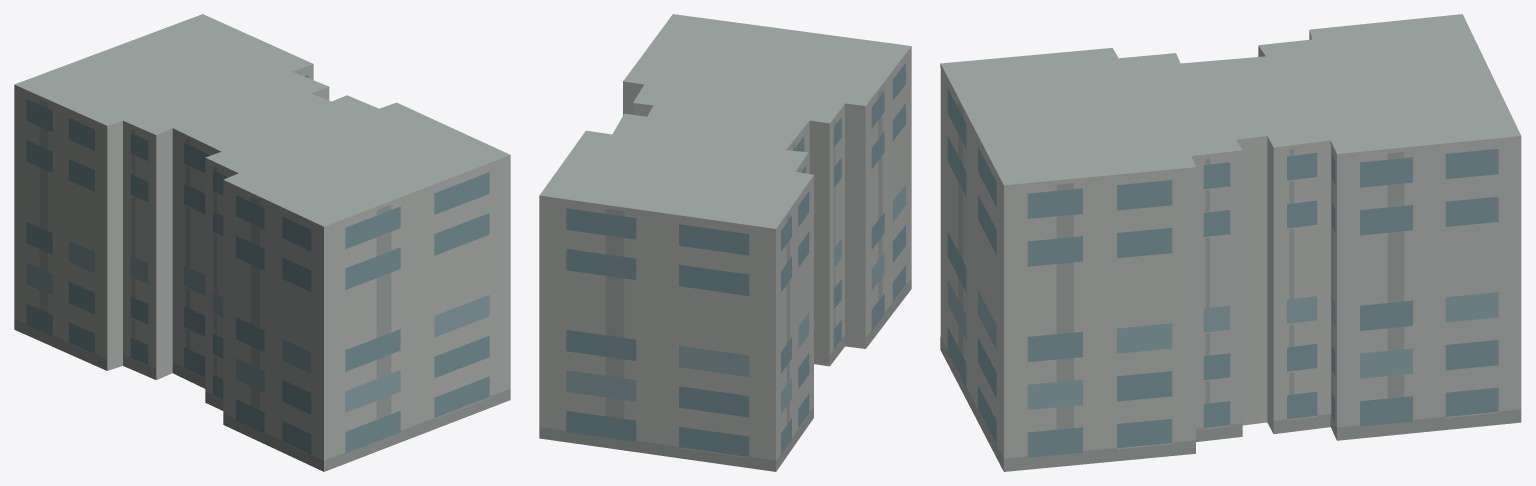
Rendered from survey-upis-32867010.glb.
The picture shows the model from 3 angles, left to right: view 1: azimuth 30°, elevation 25°; view 2: azimuth 150°, elevation 25°; view 3: azimuth 270°, elevation 25°; orthographic projection. The views are drawn at different scales.
Parts seen in each view (by area): view 1: survey-upis-32867010.tmp; view 2: survey-upis-32867010.tmp; view 3: survey-upis-32867010.tmp.
Boxes of the visible parts, x1,y1,x2,y2 form: survey-upis-32867010.tmp: (14, 14, 510, 471); survey-upis-32867010.tmp: (539, 14, 911, 471); survey-upis-32867010.tmp: (940, 14, 1521, 471).
Bounding box in the file's own units: 21.04 × 16.4 × 30.14.
